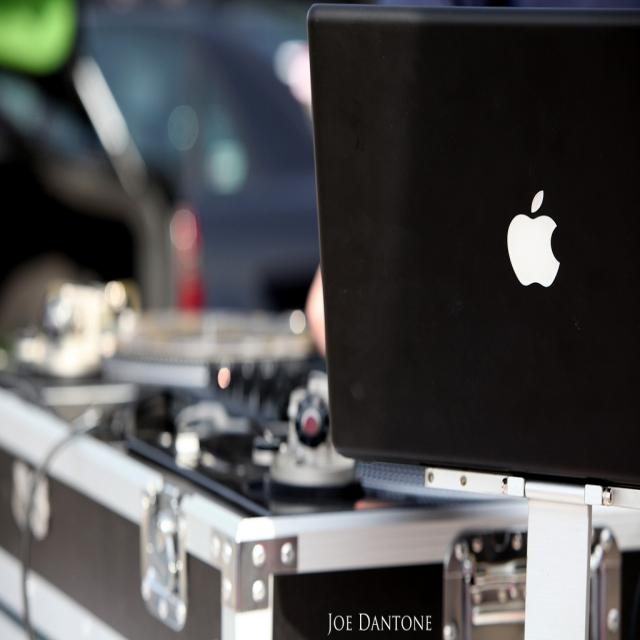apple: (504, 186, 565, 294)
